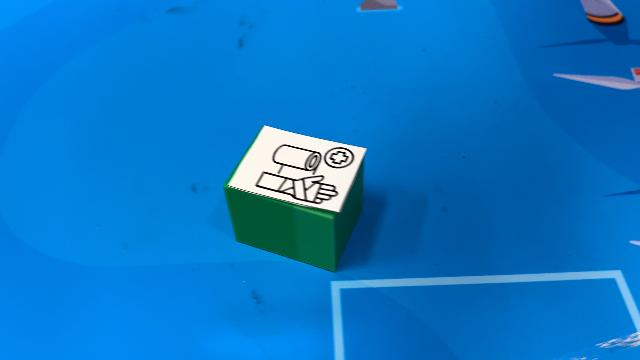bandage: (223, 123, 369, 273)
